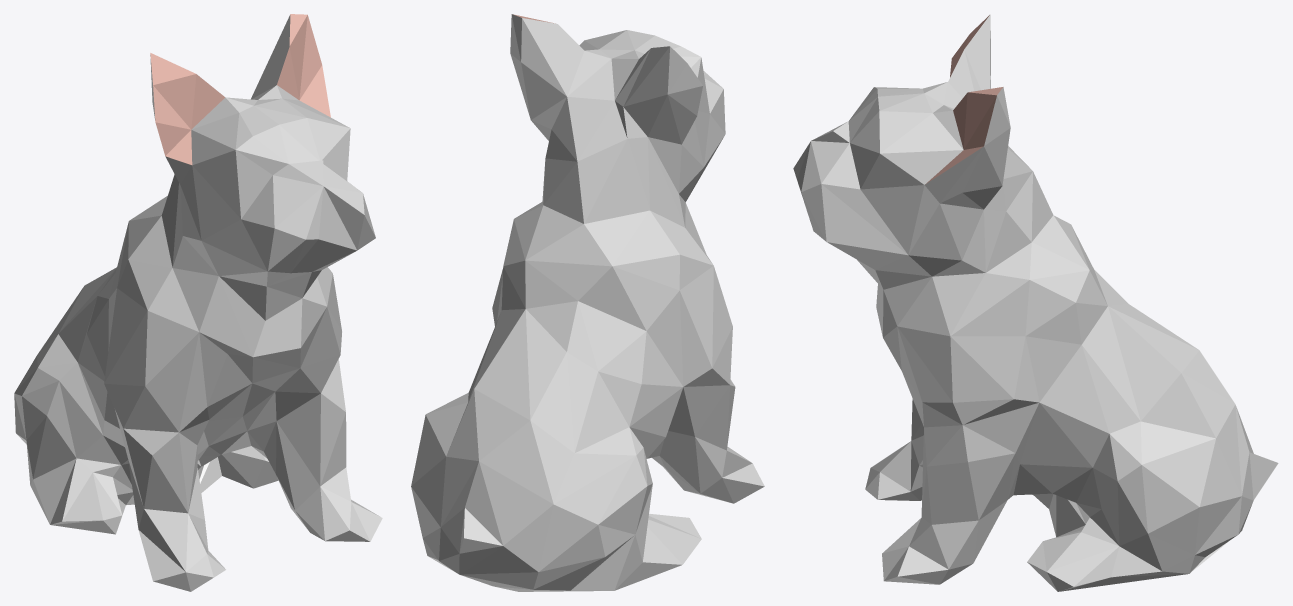
Rendered from Sofia.glb.
The picture shows the model from 3 angles, left to right: view 1: azimuth 30°, elevation 25°; view 2: azimuth 150°, elevation 25°; view 3: azimuth 270°, elevation 25°; orthographic projection. The views are drawn at different scales.
Visible parts, largest first — view 1: Bulldog- Bonzo Low Poly08711b08ef6bf75d72dfbd5fa78ffed1-Bull; view 2: Bulldog- Bonzo Low Poly08711b08ef6bf75d72dfbd5fa78ffed1-Bull; view 3: Bulldog- Bonzo Low Poly08711b08ef6bf75d72dfbd5fa78ffed1-Bull.
Part boxes in pixels (x1,y1,x2,y2): Bulldog- Bonzo Low Poly08711b08ef6bf75d72dfbd5fa78ffed1-Bull: (14, 14, 382, 591); Bulldog- Bonzo Low Poly08711b08ef6bf75d72dfbd5fa78ffed1-Bull: (411, 14, 764, 591); Bulldog- Bonzo Low Poly08711b08ef6bf75d72dfbd5fa78ffed1-Bull: (793, 14, 1278, 591).
Size of the model in its own units: 3.41 by 6.19 by 5.59.
